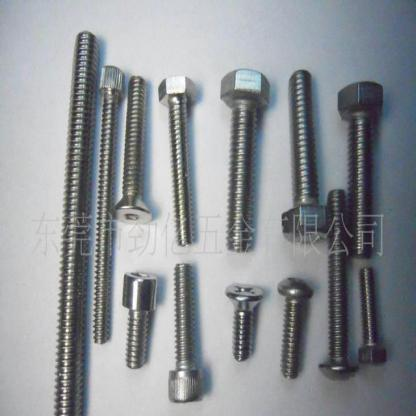FOD: (88, 61, 126, 348), (218, 67, 271, 256), (279, 66, 333, 246), (316, 184, 360, 384), (335, 78, 384, 257), (157, 70, 199, 250), (112, 71, 155, 229), (166, 262, 206, 407), (274, 276, 314, 380), (121, 268, 159, 371), (222, 280, 265, 365), (355, 264, 388, 367)
